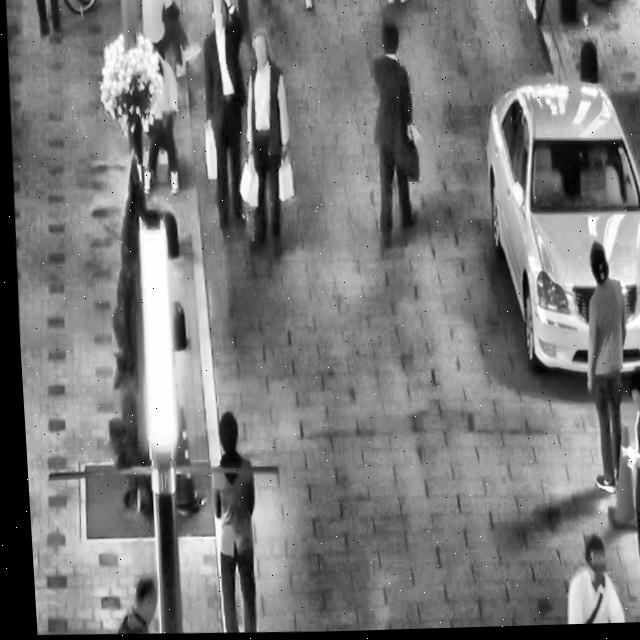light_vehicle: (470, 61, 640, 388)
